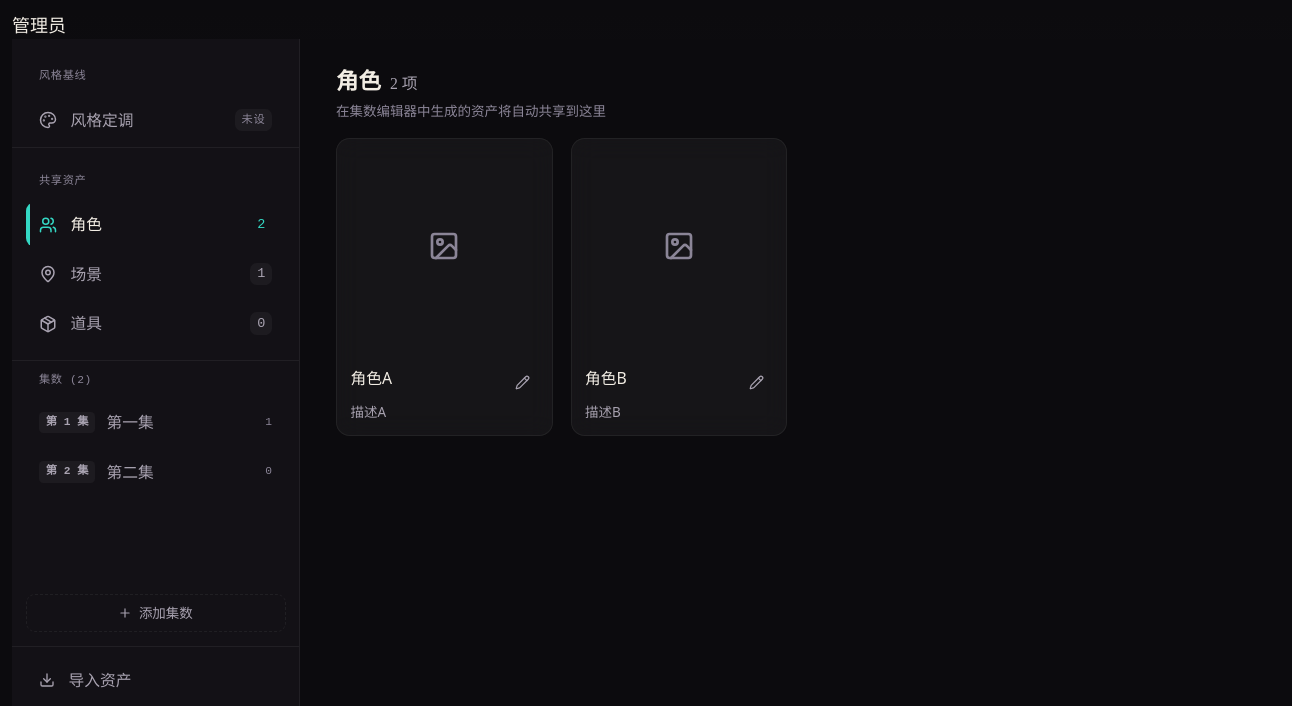
Scenario: SeriesDetailPage › Episode list › shows No image only when the frame has no persisted image candidate
Click the text "第一集".
click(130, 422)  # box top-left (106, 411), bottom-right (154, 433)
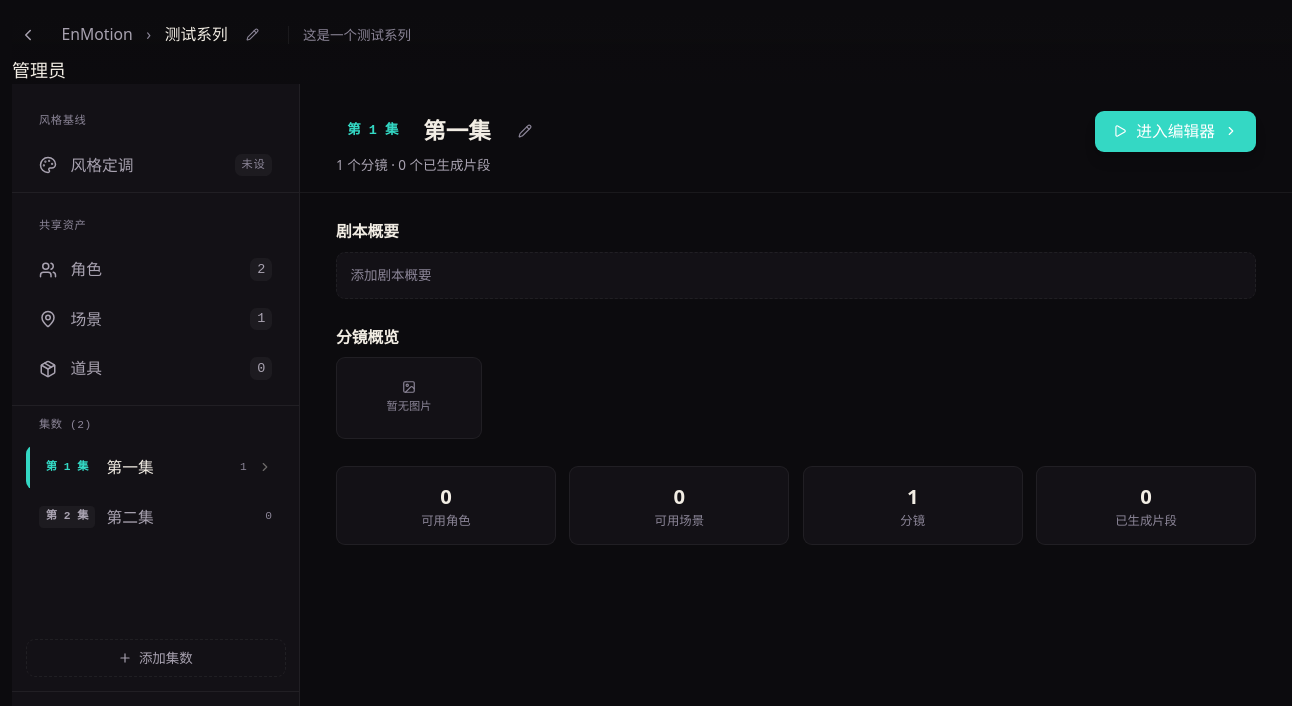
Result: the text "暂无图片" is shown at top-left (386, 399), bottom-right (431, 416)
